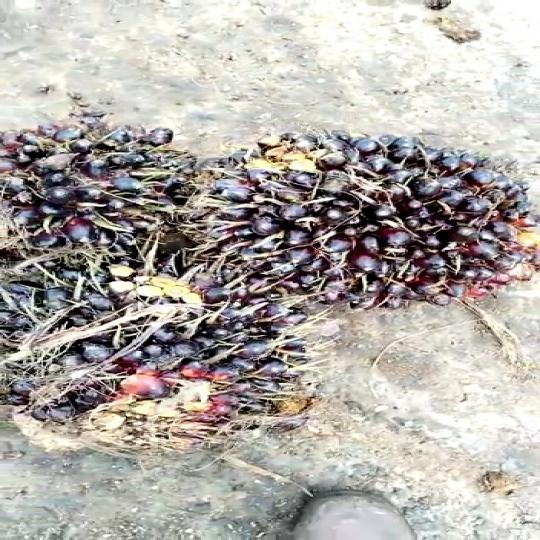mentah: (199, 122, 540, 326), (0, 270, 323, 467), (0, 126, 278, 288)
